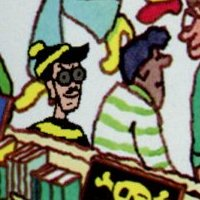odlaw: (46, 45, 83, 110)
